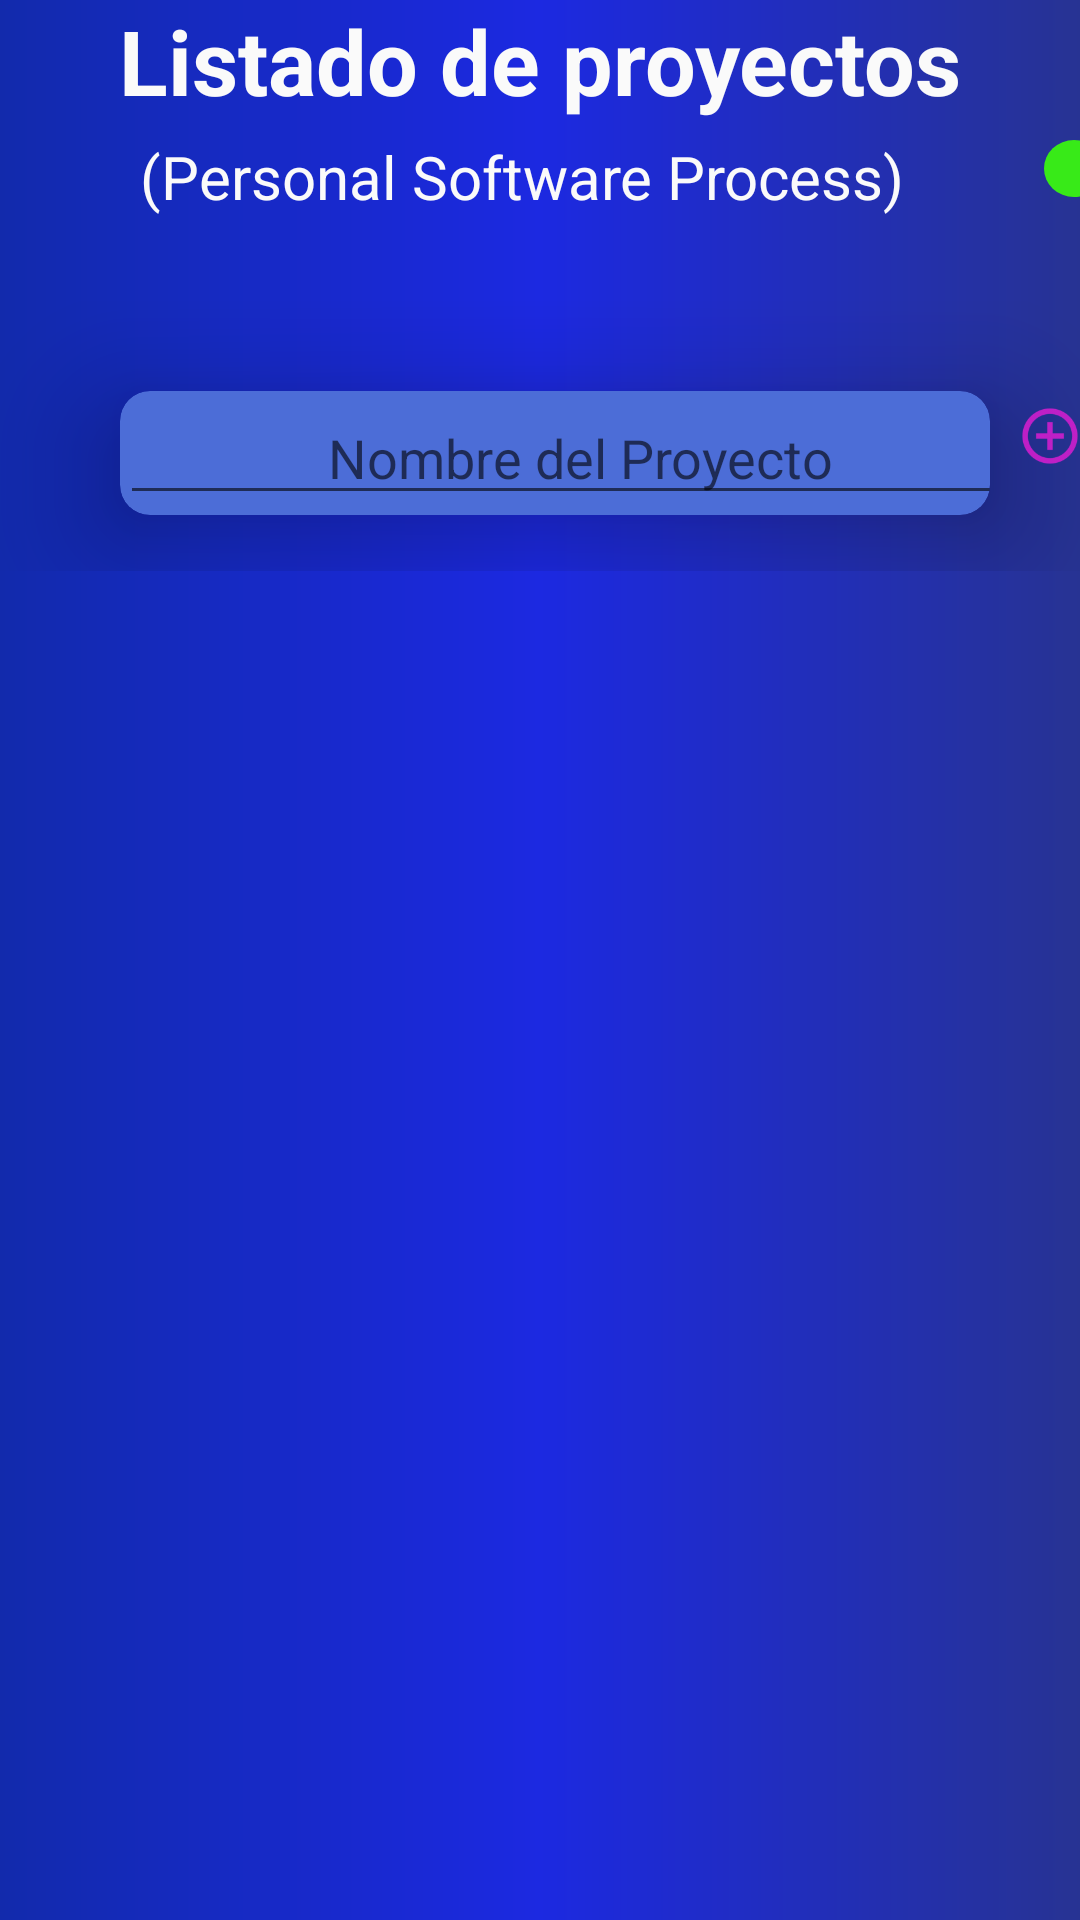

Icon click points for this 1080 x 1920 phone screenshot, format point (x, y):
agregarporyecto: point (1050, 436)
